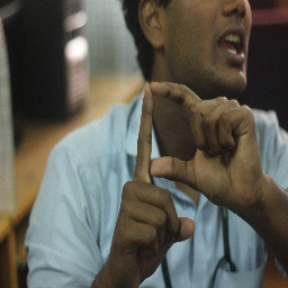D: (126, 77, 223, 215)
